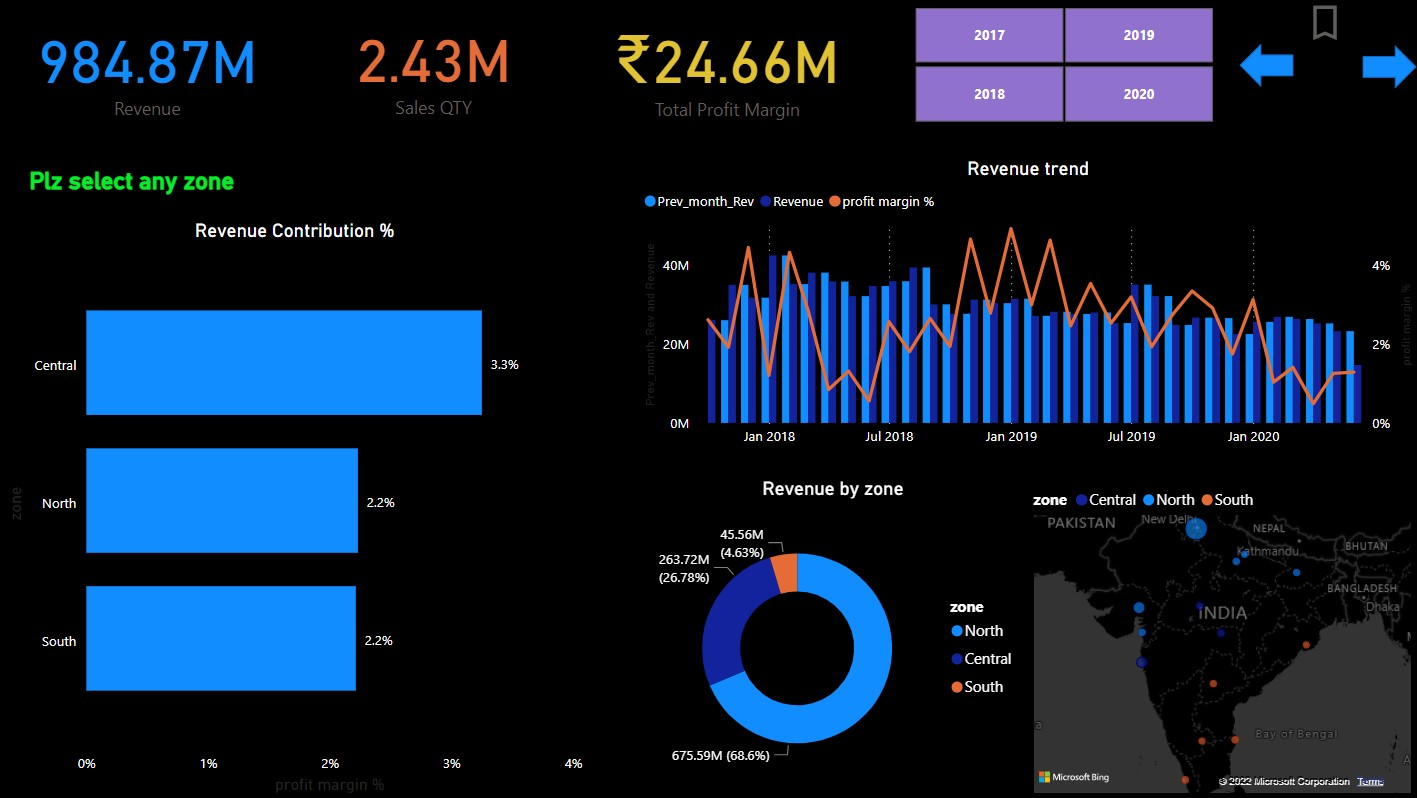

This screenshot's page, from the dashboard's own definition file:
{"tool":"powerbi","page":{"name":"Dashboard 2","canvas":[1280,720],"ordinal":1},"visuals":[{"type":"card","fields":{"Values":["measures (2).revenue"]},"box":[10.6,0,250.2,118.3],"z":0},{"type":"card","fields":{"Values":["measures (2).sales qty"]},"box":[282.3,0,222.9,116.2],"z":1000},{"type":"slicer","fields":{"Values":["sales date.cy_date.Variation.Date Hierarchy.Year"]},"box":[802.4,0,317.4,116.2],"z":2000},{"type":"lineClusteredColumnComboChart","title":"Revenue trend","fields":{"Category":["sales date.cy_date"],"Y":["measures (2).Prev_month_Rev","measures (2).revenue"],"Y2":["measures (2).profit margin %"]},"box":[578.2,141.8,702.4,268.8],"z":3000},{"type":"card","fields":{"Values":["measures (2).total profit margin"]},"box":[533.6,0,249.9,118.9],"z":4000},{"type":"barChart","title":"Revenue Contribution %","fields":{"Category":["sales markets.zone","sales markets.markets_name"],"Y":["measures (2).profit margin %"]},"box":[4.1,197.2,529.5,521.4],"z":5000},{"type":"card","fields":{"Values":["measures (2).Selected_zone"]},"box":[0,127,244.5,70.2],"z":6000},{"type":"map","fields":{"Size":["measures (2).Revenue"],"Category":["sales markets.markets_name"],"Series":["sales markets.zone"]},"box":[929.7,429.2,350.3,289.7],"z":7000},{"type":"donutChart","fields":{"Category":["sales markets.zone"],"Y":["measures (2).Revenue"]},"box":[578.2,429.6,351.2,289.1],"z":8000},{"type":"actionButton","box":[1176.6,0,43.2,40.5],"z":9000},{"type":"shape","box":[1119.8,39.2,48.6,39.2],"z":10000},{"type":"shape","box":[1230.6,40.5,48.6,39.2],"z":11000}]}

Visuals, with their boxes in screenshot pixels (x1, y1, x2, y2), scaled from the page's 1280x720 canvas onto the 1417x798 screenshot:
card - measures (2).revenue: detection(12, 0, 289, 131)
card - measures (2).sales qty: detection(313, 0, 559, 129)
slicer - sales date.cy_date.Variation.Date Hierarchy.Year: detection(888, 0, 1240, 129)
"Revenue trend" lineClusteredColumnComboChart: detection(640, 157, 1416, 455)
card - measures (2).total profit margin: detection(591, 0, 867, 132)
"Revenue Contribution %" barChart: detection(5, 219, 591, 796)
card - measures (2).Selected_zone: detection(0, 141, 271, 219)
map - measures (2).Revenue x sales markets.markets_name: detection(1029, 476, 1416, 797)
donutChart - sales markets.zone x measures (2).Revenue: detection(640, 476, 1029, 797)
actionButton: detection(1303, 0, 1350, 45)
shape: detection(1240, 43, 1293, 87)
shape: detection(1362, 45, 1416, 88)
